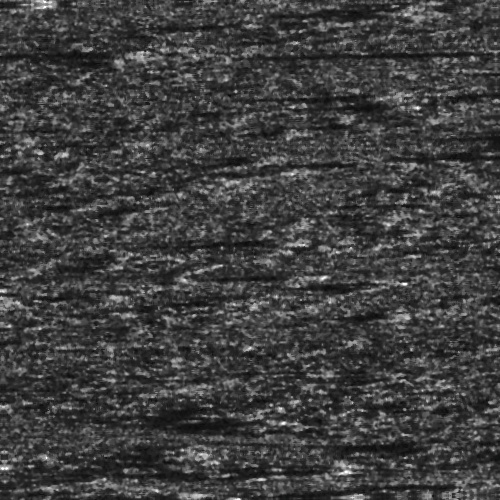object: (7, 0, 90, 5), (402, 10, 443, 19)
shadow: (275, 46, 500, 65), (317, 10, 422, 19), (0, 0, 49, 5)
